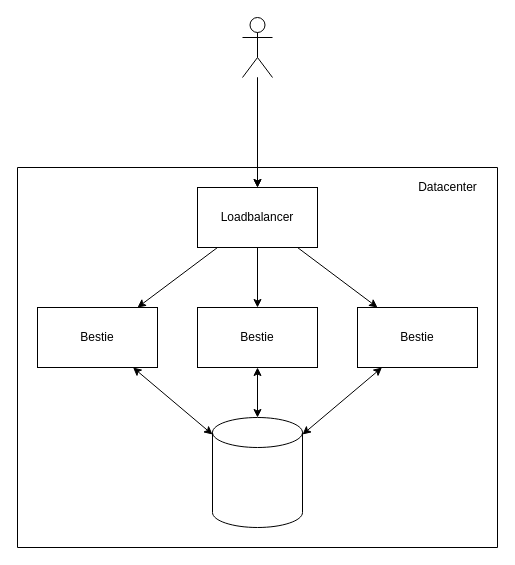
This 515x565 diagram has some shape labels left out. Each missing label, with the centre of its shape:
"Postgres" goes at pixel 257 472.
"User" goes at pixel 257 47.
